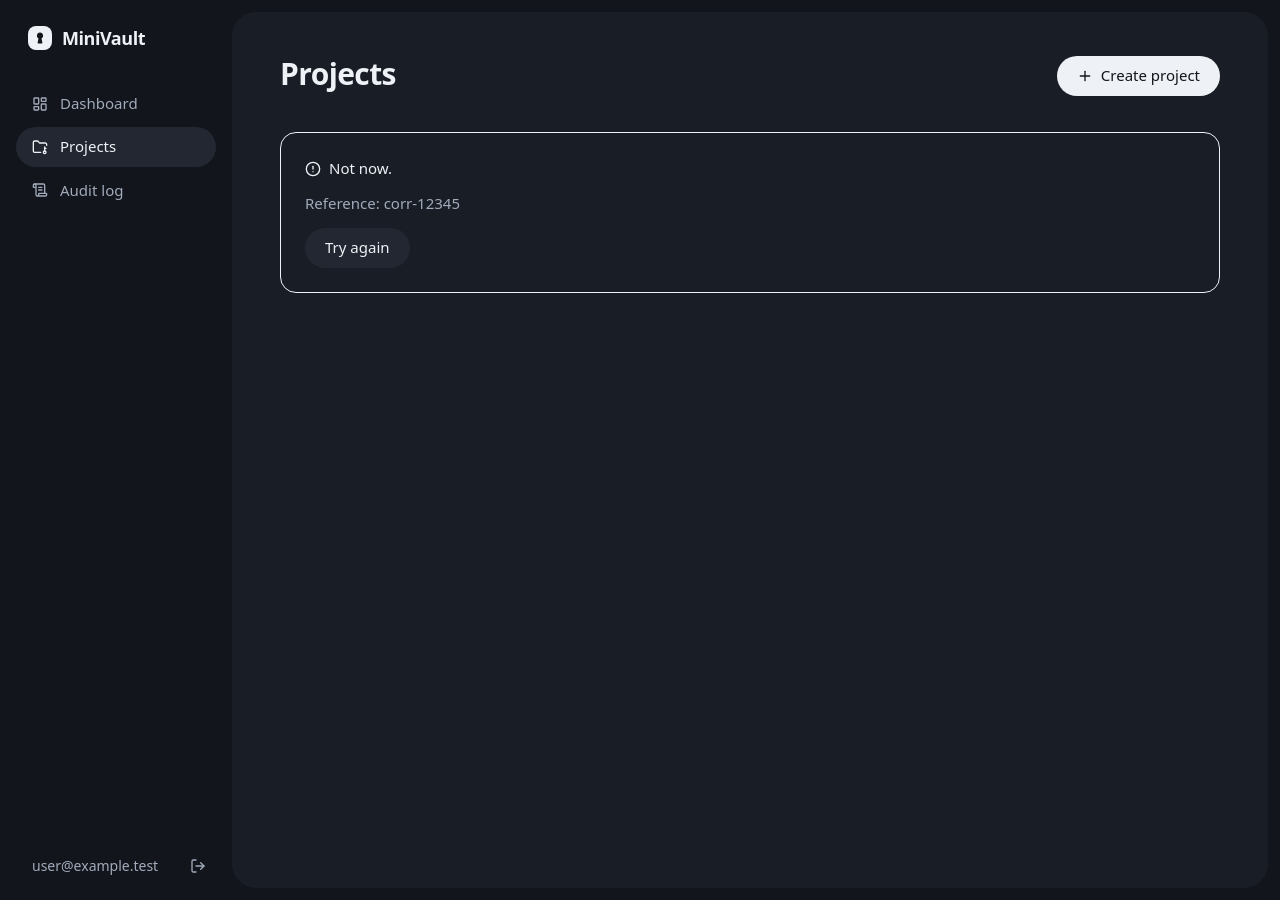
Test: recovers from a failed load
Expected: the text "Not now." is shown, [305,157,392,180]
Expected: the text "Reference: corr-12345" is shown, [305,192,460,216]
Click the button "Try again" at (357, 248), box [305,228,410,268]
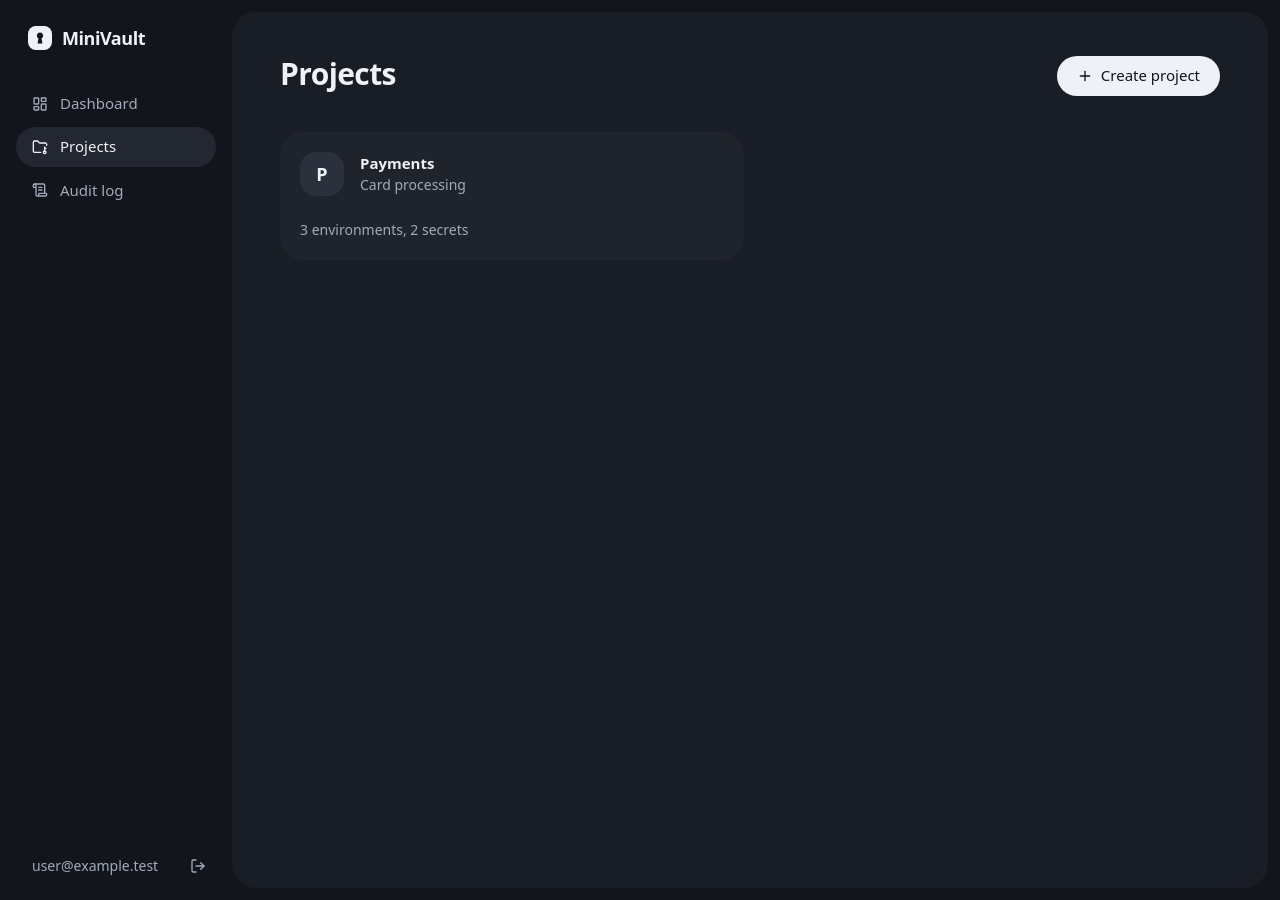
Expected: the link "Payments" is shown, [360,153,434,173]
